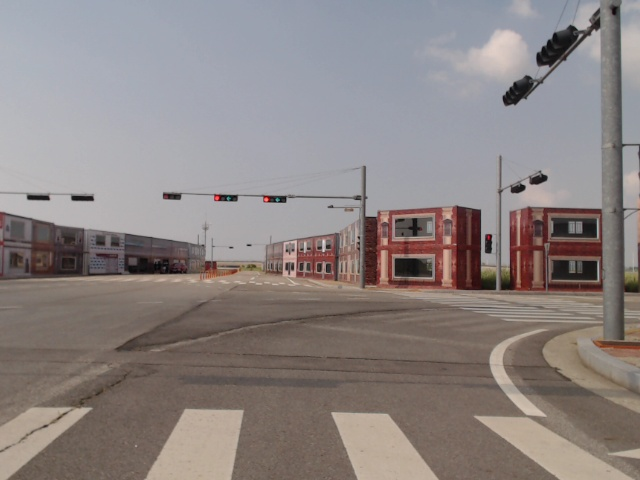left_green_4: (214, 194, 238, 202), (263, 196, 286, 203)
